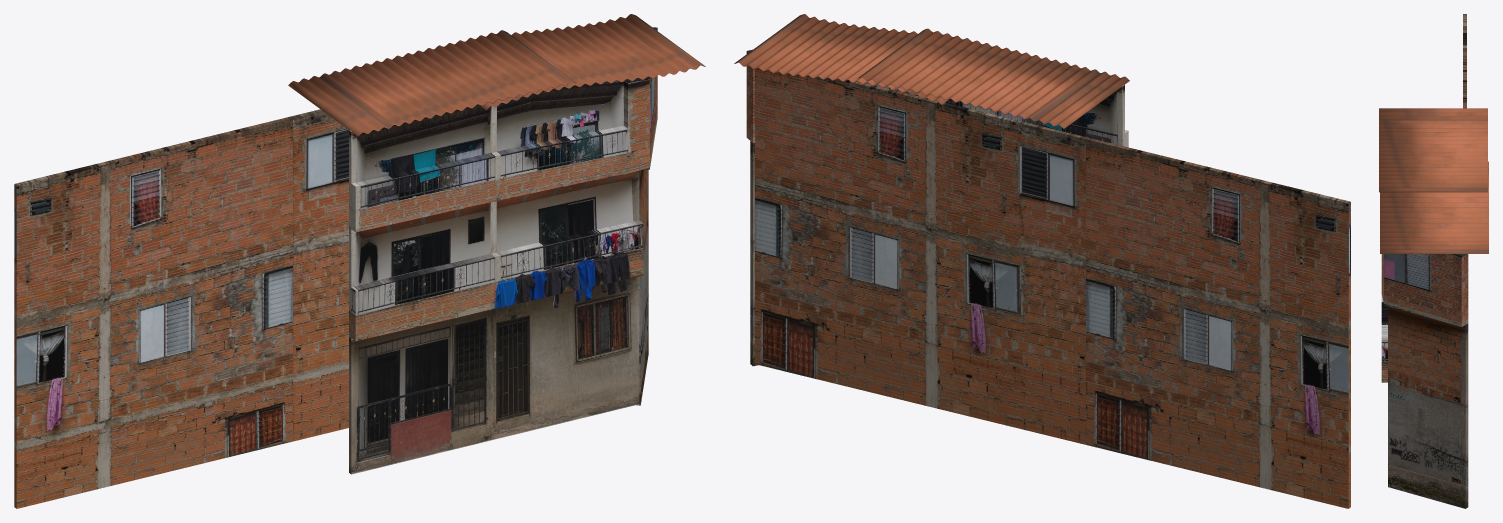
Rendered from casa_derecha_0.fbx.
The picture shows the model from 3 angles, left to right: view 1: azimuth 30°, elevation 25°; view 2: azimuth 150°, elevation 25°; view 3: azimuth 270°, elevation 25°; orthographic projection. The views are drawn at different scales.
Visible parts, largest first — view 1: casa_derecha_01Bs.001, casa_derecha_0.002, casa_derecha_0.001, Techo_03.003, Techo_03.004, casa_derecha_01S.001; view 2: casa_derecha_0.001, casa_derecha_0.002, Techo_03.003, Techo_03.004, casa_derecha_01Bs.001, casa_derecha_01S.001; view 3: casa_derecha_01S.001, Techo_03.003, Techo_03.004, casa_derecha_01Bs.001, casa_derecha_0.002.
Boxes of the visible parts, x1,y1,x2,y2 form: casa_derecha_01Bs.001: [349, 78, 649, 474]; casa_derecha_0.002: [14, 116, 293, 508]; casa_derecha_0.001: [292, 109, 348, 441]; Techo_03.003: [288, 30, 576, 136]; Techo_03.004: [481, 14, 705, 110]; casa_derecha_01S.001: [636, 27, 657, 405]; casa_derecha_0.001: [755, 68, 1089, 444]; casa_derecha_0.002: [1086, 138, 1350, 508]; Techo_03.003: [857, 28, 1129, 128]; Techo_03.004: [734, 14, 948, 104]; casa_derecha_01Bs.001: [866, 83, 1128, 147]; casa_derecha_01S.001: [746, 42, 789, 366]; casa_derecha_01S.001: [1384, 254, 1468, 508]; Techo_03.003: [1379, 108, 1487, 192]; Techo_03.004: [1380, 161, 1488, 253]; casa_derecha_01Bs.001: [1381, 254, 1387, 382]; casa_derecha_0.002: [1463, 14, 1466, 108].
Size of the model in its own units: 1508 by 781 by 287.
